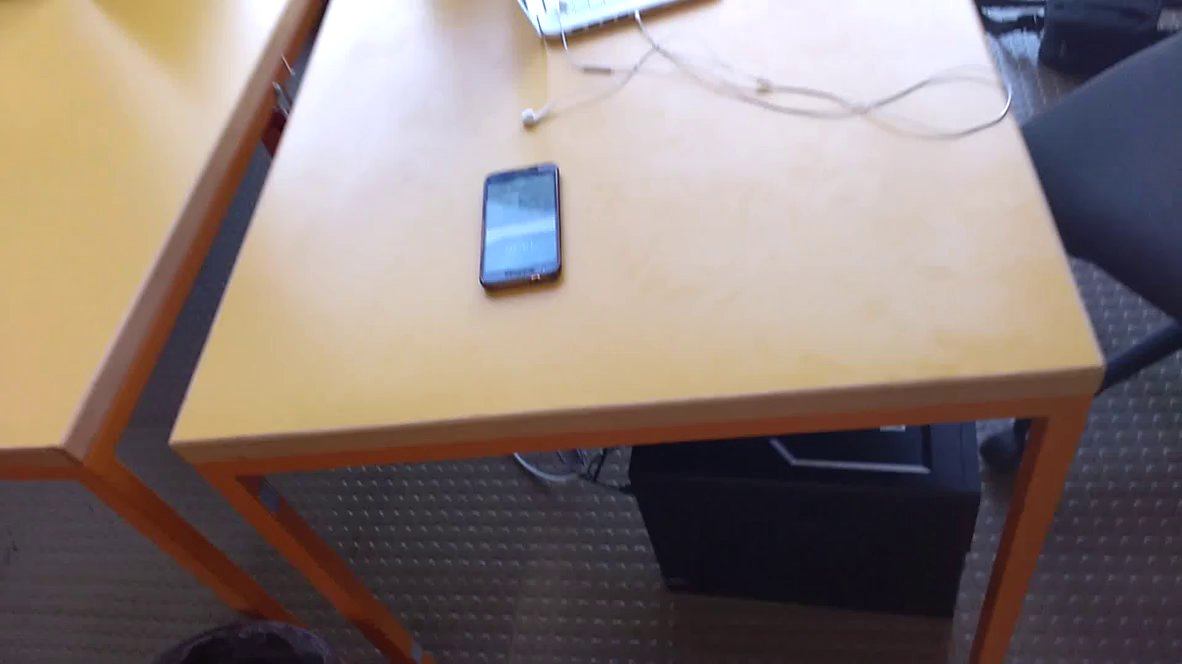phone: (468, 150, 572, 298)
